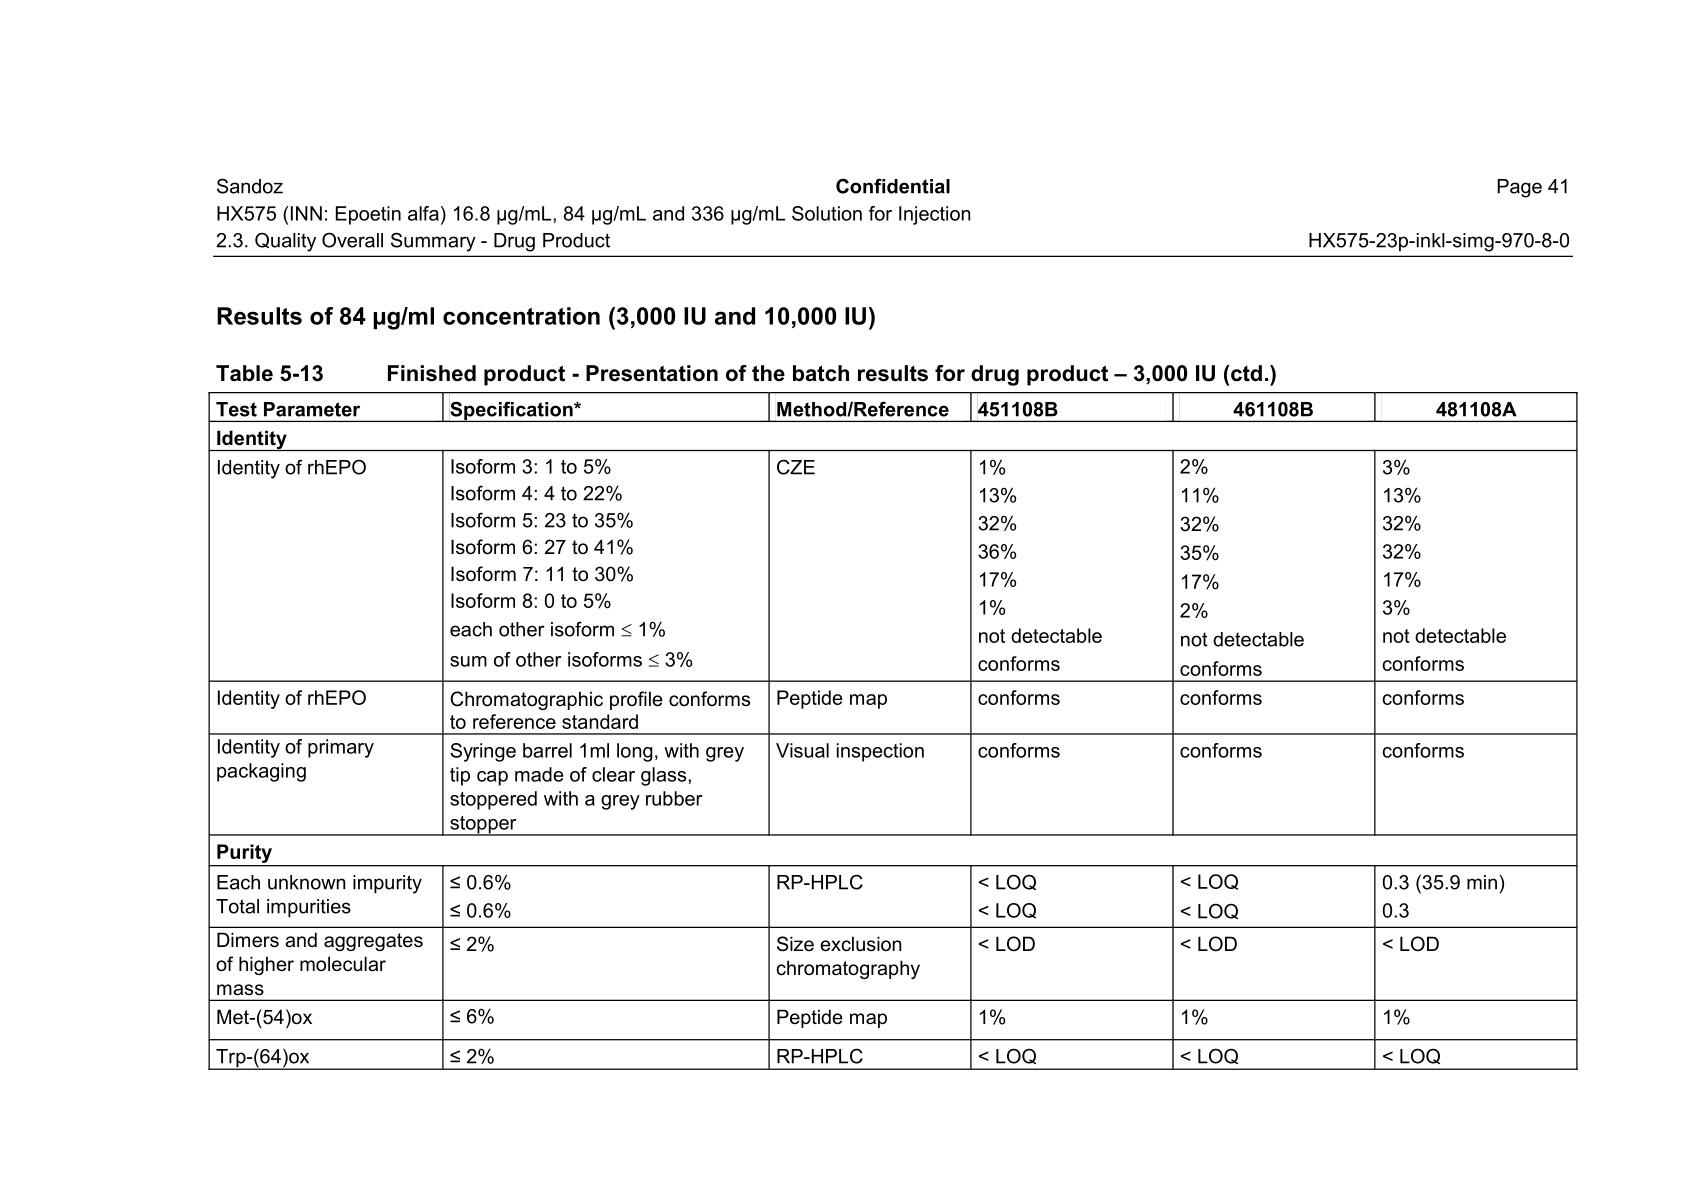merged_cells: (207, 391, 1578, 1071)
